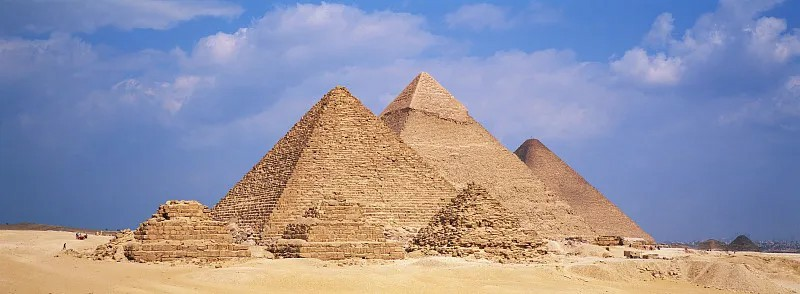Pyramid: (210, 85, 459, 257), (379, 72, 600, 247), (515, 138, 658, 249), (410, 183, 552, 263), (266, 191, 409, 262), (118, 198, 253, 264)
